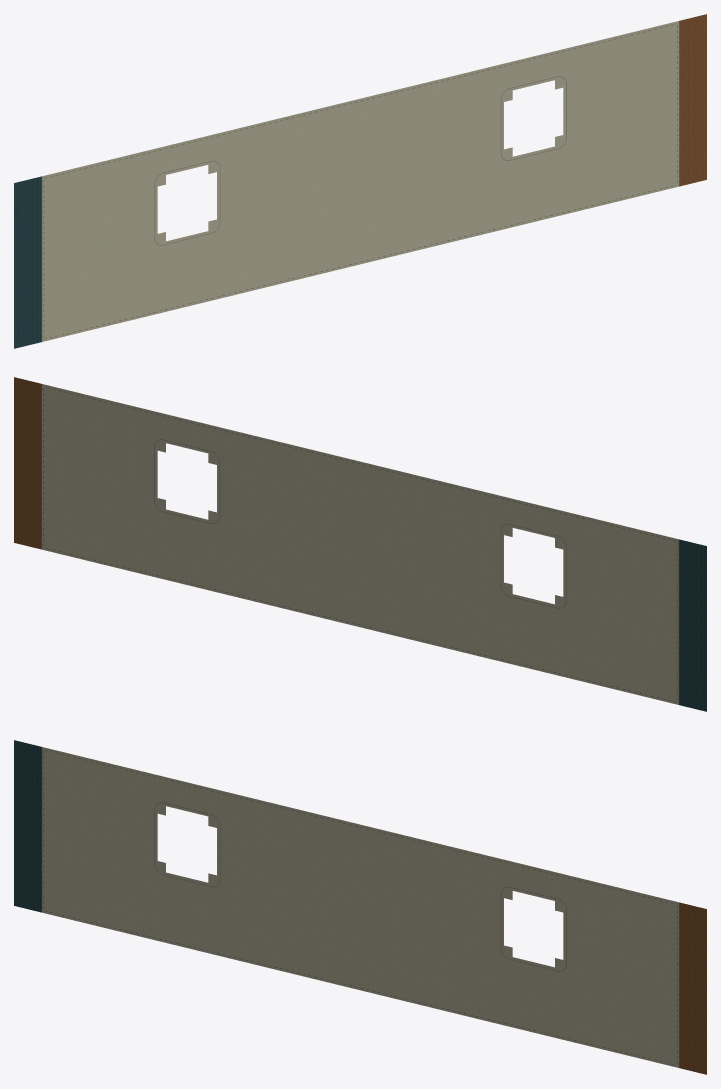
The model's file is cloth.obj.
3 renders of one model, top to bottom at view 1: azimuth 30°, elevation 25°; view 2: azimuth 150°, elevation 25°; view 3: azimuth 330°, elevation 25°, orthographic.
Visible parts, largest first — view 1: garment; view 2: garment; view 3: garment.
Part boxes in pixels (x1=…): garment: x1=14, y1=14, x2=706, y2=348; garment: x1=14, y1=377, x2=706, y2=711; garment: x1=14, y1=740, x2=706, y2=1074.
Bounding box in the file's own units: 0.7 × 0.16 × 0.
Materials: 1 (1 with a texture image).
